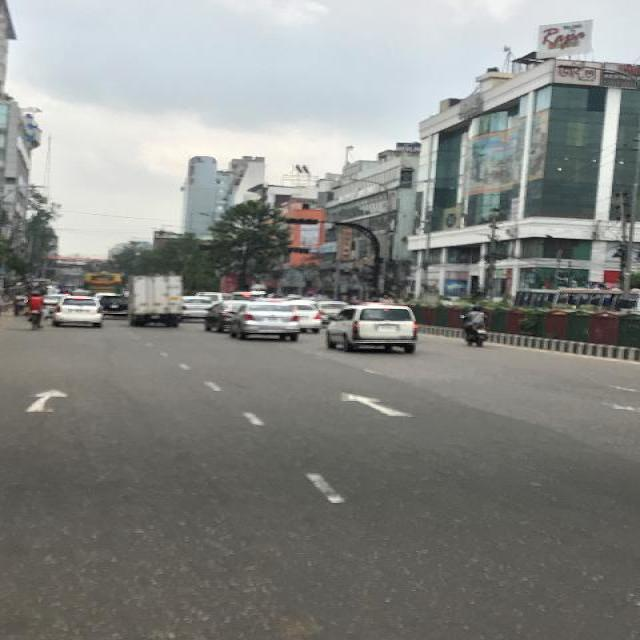10: (458, 304, 490, 346)
11: (126, 272, 183, 328)
5: (324, 305, 417, 355), (230, 301, 301, 341), (53, 296, 102, 326), (292, 300, 320, 334), (100, 292, 128, 316), (184, 296, 211, 318)
Motorcycle: (24, 288, 44, 332)
Truck: (552, 285, 636, 319), (512, 286, 557, 310), (83, 272, 122, 294)
